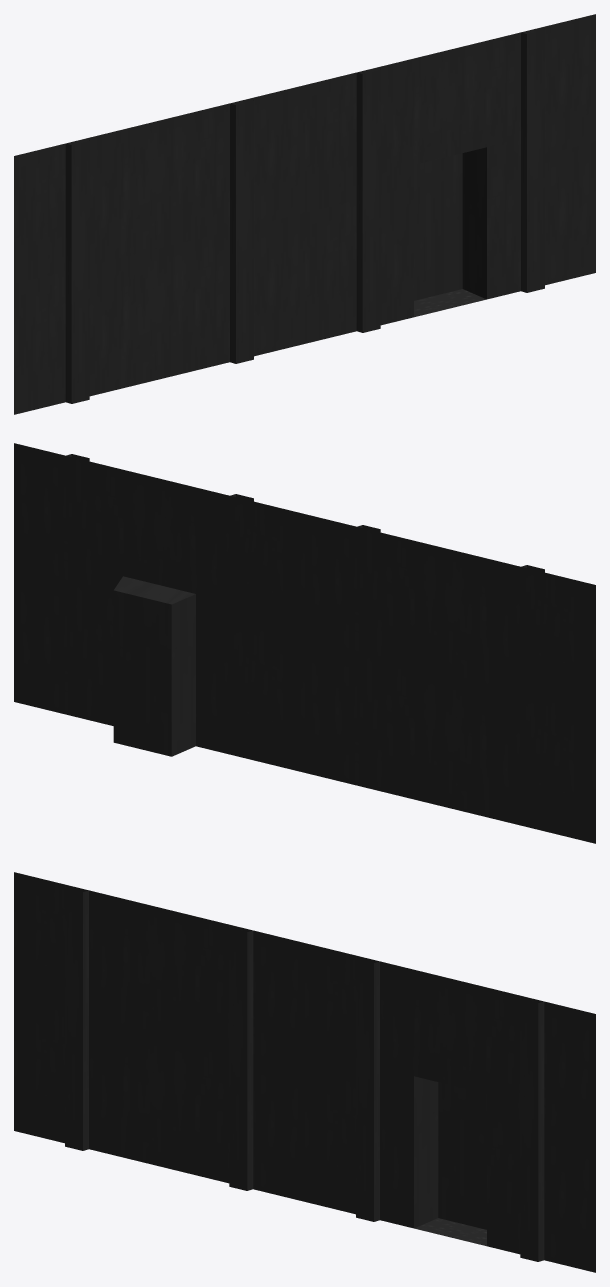
The model's file is SW_ENV_RailTunnelWall_B_03_10m.fbx.
3 views of the same model, one above another, from view 1: azimuth 30°, elevation 25°; view 2: azimuth 150°, elevation 25°; view 3: azimuth 330°, elevation 25° (orthographic).
Parts seen in each view (by area): view 1: SW_ENV_RailTunnelWall_B_03_10m; view 2: SW_ENV_RailTunnelWall_B_03_10m; view 3: SW_ENV_RailTunnelWall_B_03_10m.
Part boxes in pixels (x1,y1,x2,y2): SW_ENV_RailTunnelWall_B_03_10m: (14,14,595,414); SW_ENV_RailTunnelWall_B_03_10m: (14,443,595,843); SW_ENV_RailTunnelWall_B_03_10m: (14,872,595,1272).
Bounding box in the file's own units: 1000 × 425 × 60.
